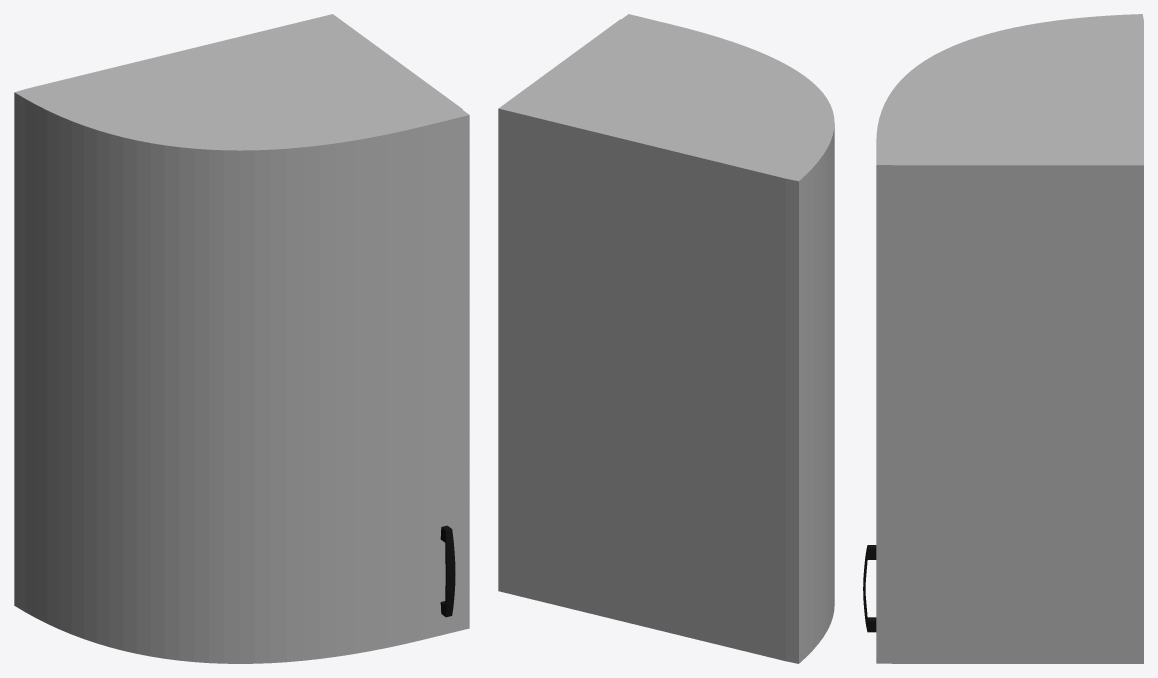
3 views of the same model, side by side, from view 1: azimuth 30°, elevation 25°; view 2: azimuth 150°, elevation 25°; view 3: azimuth 270°, elevation 25° (orthographic). The views are drawn at different scales.
Visible parts, largest first — view 1: Line001, Box001, Obj3d66-503491-2-344; view 2: Box001, Line001; view 3: Box001, Line001, Obj3d66-503491-2-344.
Part boxes in pixels (left/top/right/bottom): Line001: left=14, top=88, right=469, bottom=663; Box001: left=28, top=14, right=462, bottom=143; Obj3d66-503491-2-344: left=440, top=525, right=455, bottom=617; Box001: left=498, top=19, right=819, bottom=661; Line001: left=621, top=14, right=834, bottom=663; Box001: left=891, top=20, right=1143, bottom=663; Line001: left=876, top=14, right=1143, bottom=663; Obj3d66-503491-2-344: left=863, top=545, right=876, bottom=632.
Size of the model in its own units: 0.4683 by 0.72 by 0.3672.
Materials: 2 (1 with a texture image).
